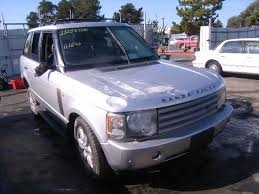Broken-glass: (33, 60, 53, 76)
Dent: (105, 96, 129, 109)
Scratch: (100, 79, 176, 102)
